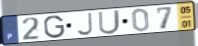0: (131, 7, 151, 33)
2: (22, 16, 42, 41)
7: (155, 5, 174, 31)
G: (43, 14, 67, 39)
J: (75, 12, 94, 37)
U: (97, 9, 122, 36)
